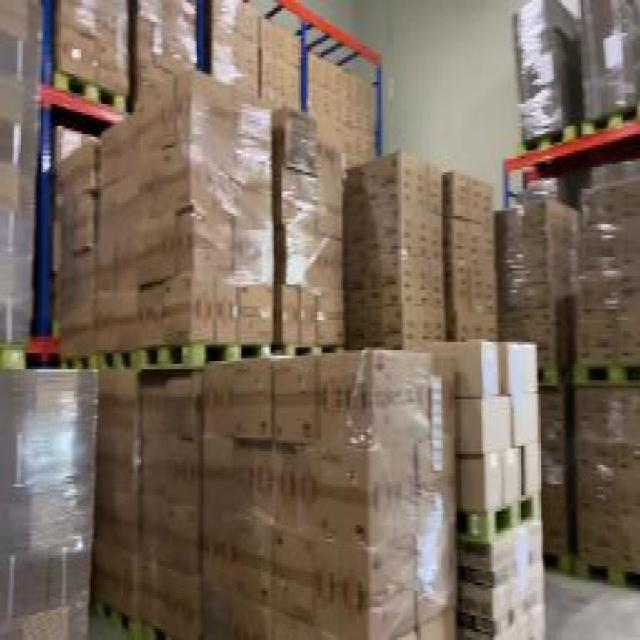box: (3, 345, 551, 637), (57, 71, 345, 350), (491, 192, 583, 596), (340, 148, 502, 350), (569, 170, 637, 604), (210, 0, 376, 175), (123, 2, 206, 140), (510, 0, 576, 142), (51, 3, 131, 112), (577, 3, 638, 134)
